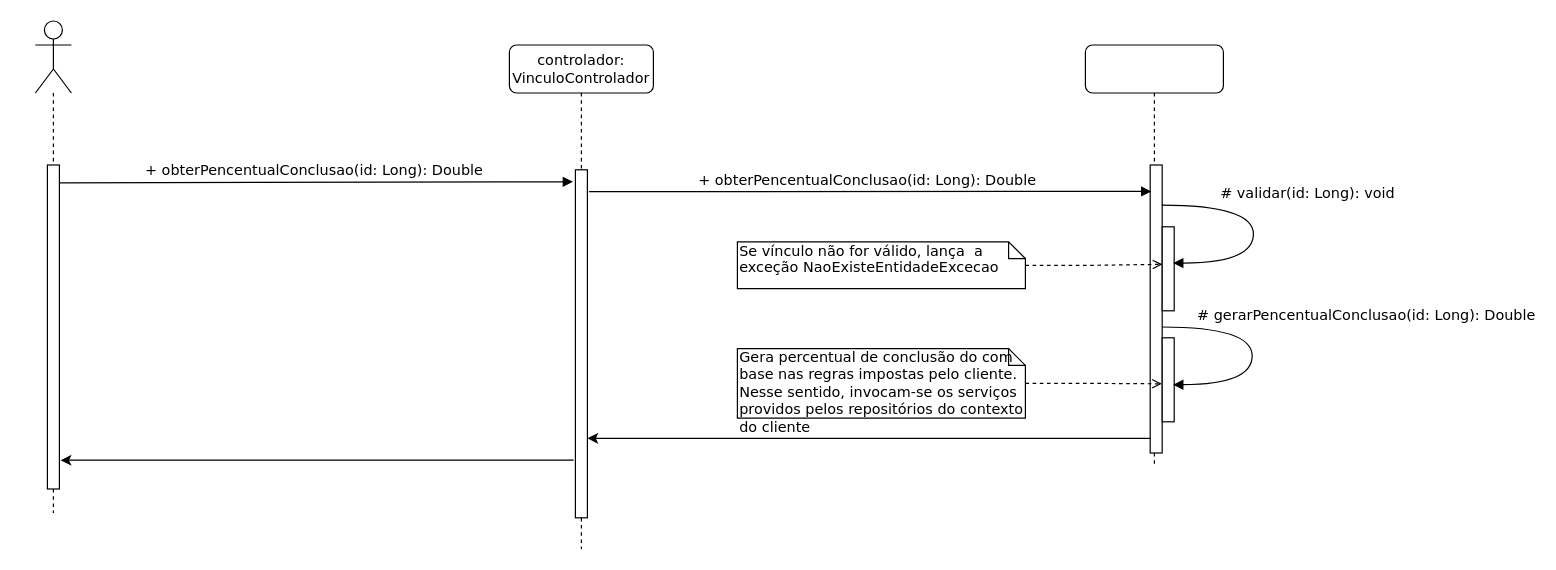
The diagram is 1556 pixels wide and 570 high, and some of its shapes have lost their labels. The shapes that lost their labels are listed below. From the top down, each one's box as (x1, y1, x2, y2) in pixels, then its label:
(34, 20, 71, 93): Estudante
(1084, 44, 1223, 465): servico: VinculoServico
